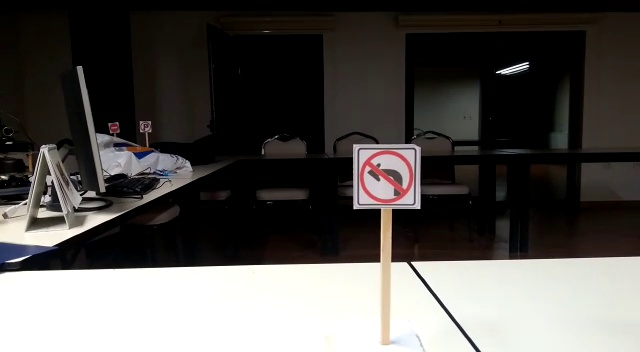sola_donulmez: (355, 150, 417, 206)
